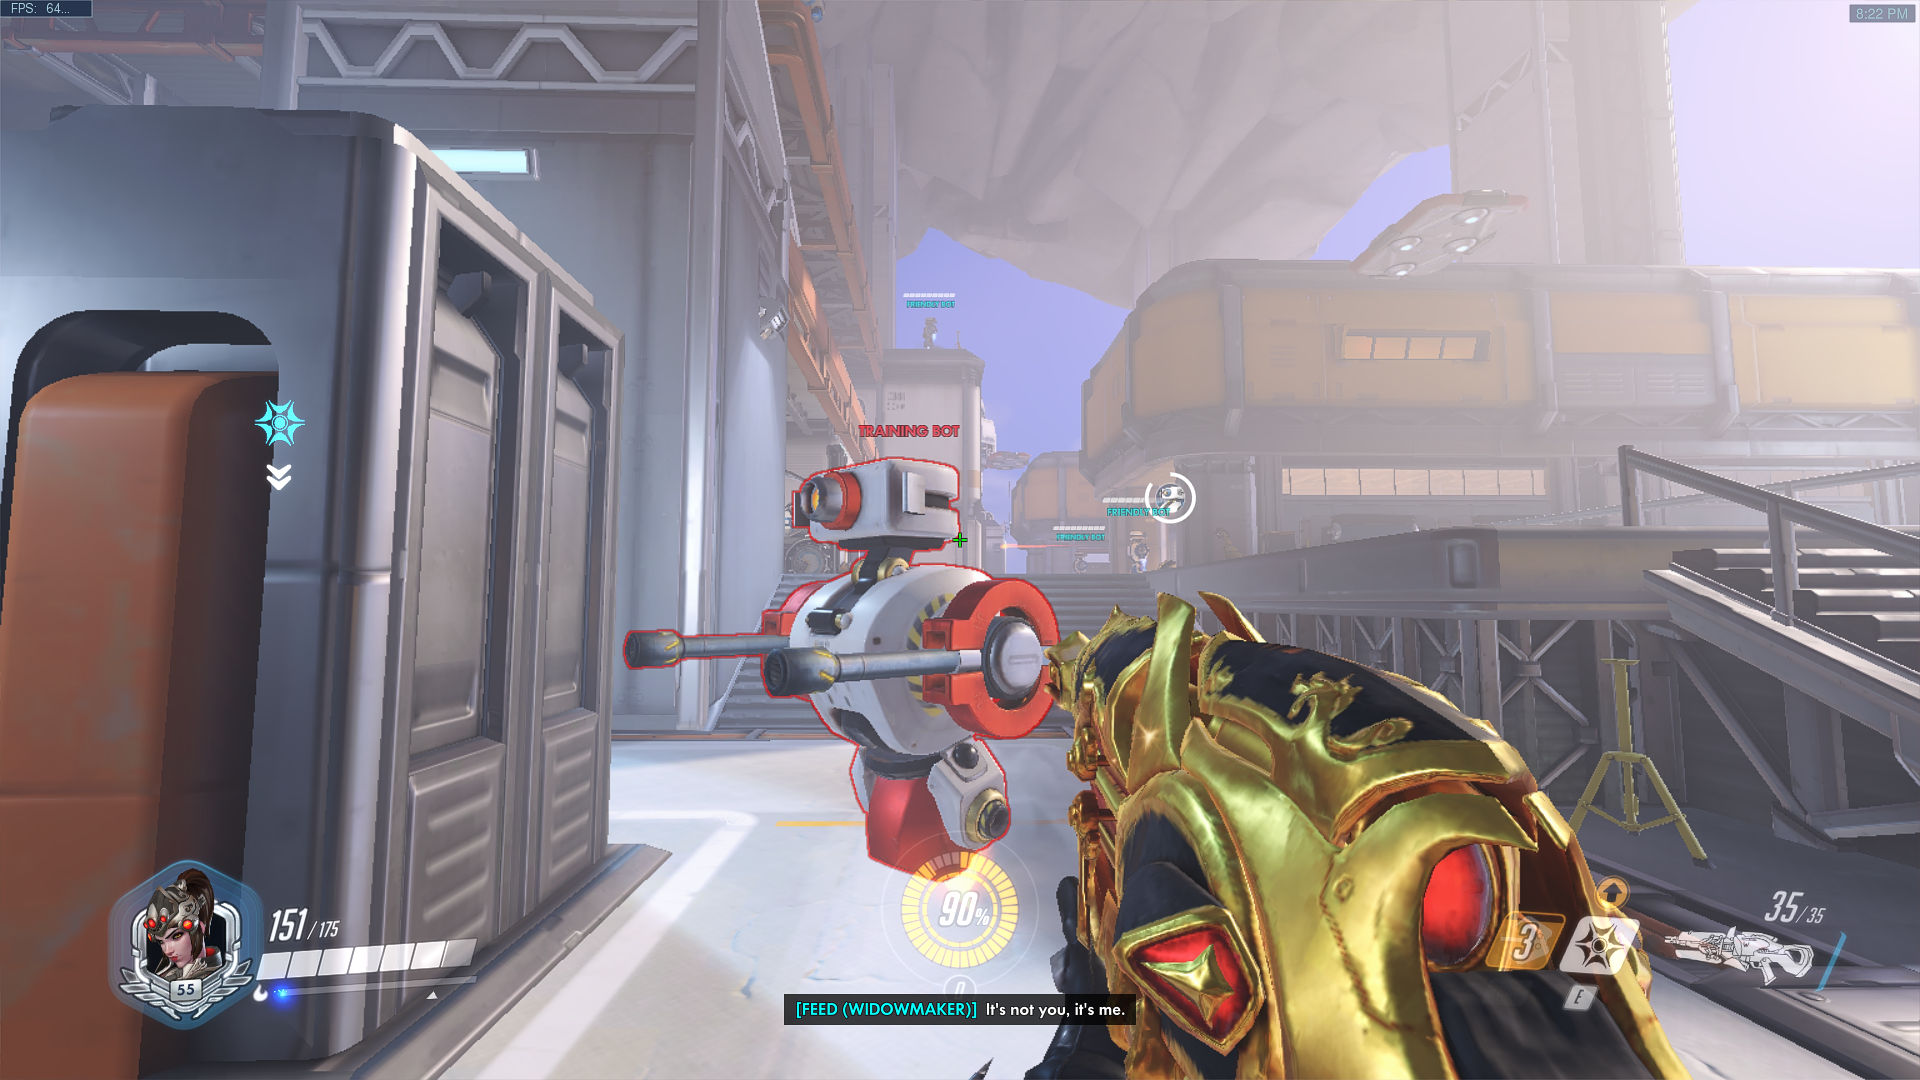head: (796, 475, 959, 544)
